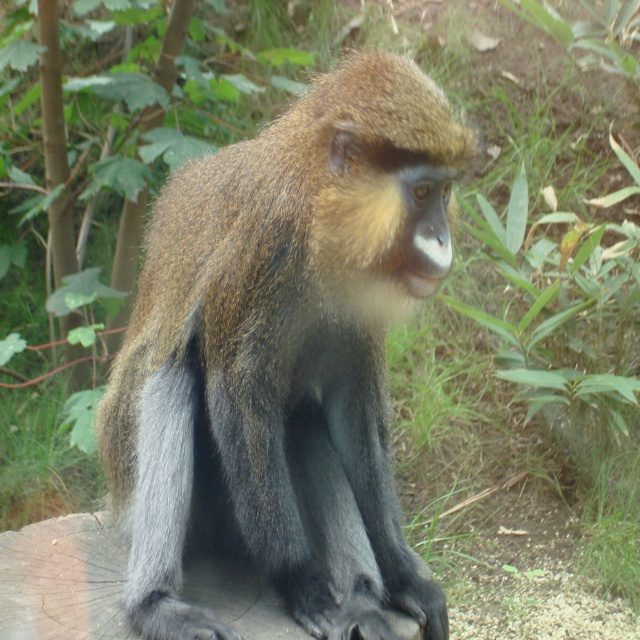Monkey: (88, 41, 477, 639)
